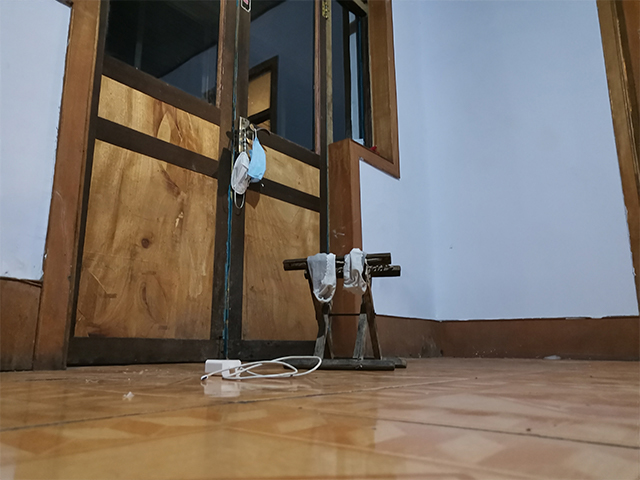stool: (281, 249, 409, 373)
wire: (197, 354, 324, 383)
